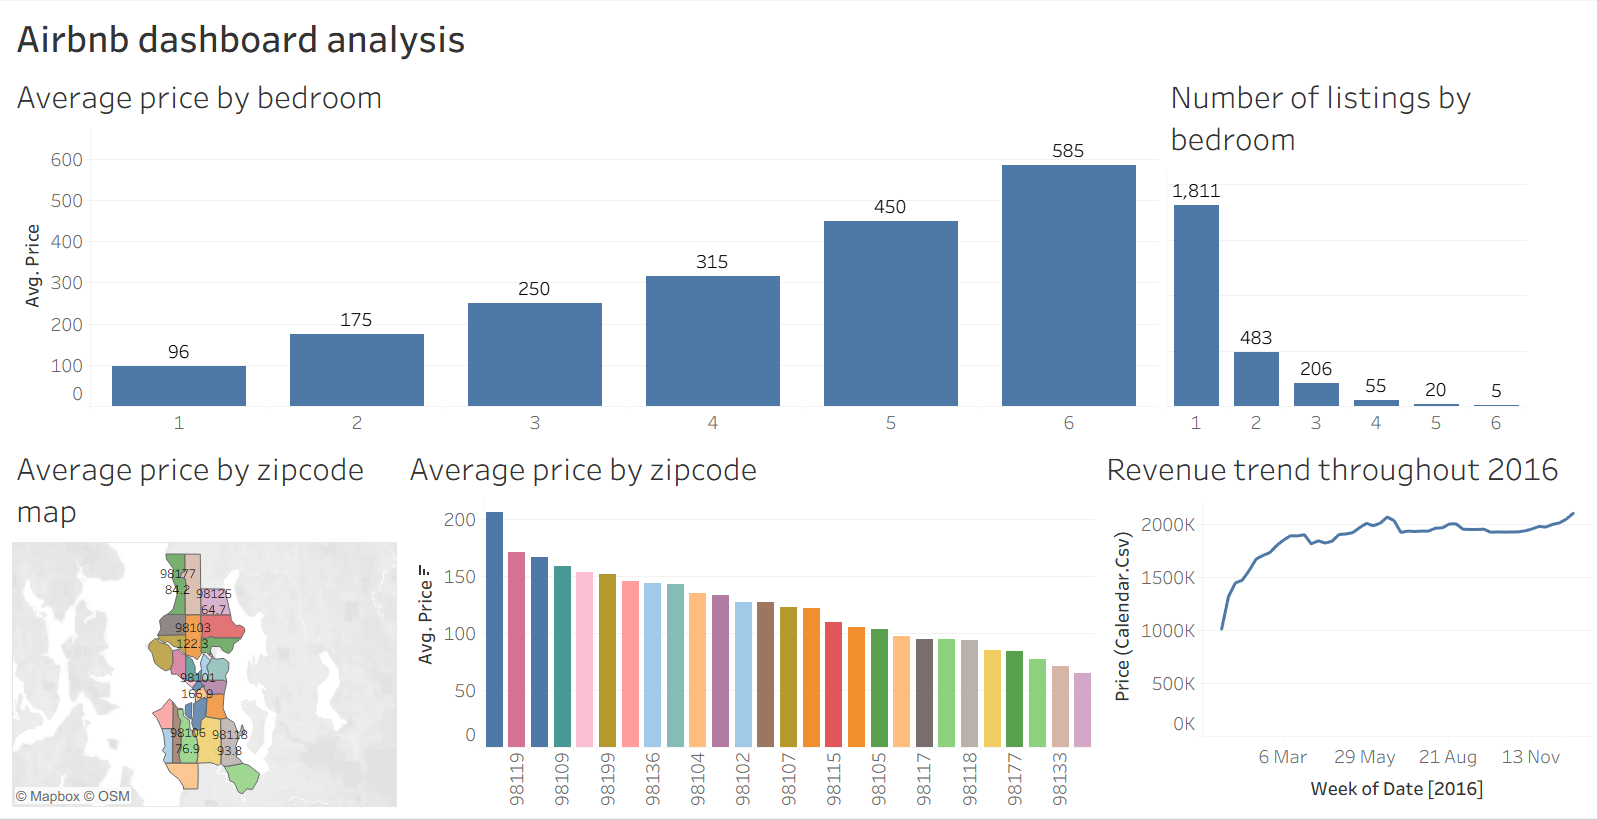

What the dashboard file says about the page in this screenshot:
{"tool":"tableau","page":{"name":"Dashboard 1","canvas":[1000,1000],"units":"permille","ordinal":0},"visuals":[{"type":"title","box":[5,9.8,990,70.9]},{"type":"worksheet","title":"Sheet 4","mark":"Automatic","rows":["price"],"cols":["bedrooms"],"box":[5,80.7,719.5,454.8]},{"type":"worksheet","title":"Sheet 5","mark":"Automatic","rows":["id"],"cols":["bedrooms"],"box":[724.4,80.7,270.6,454.8]},{"type":"worksheet","title":"Sheet 2","mark":"Multipolygon","box":[5,535.5,245,454.8]},{"type":"worksheet","title":"Sheet 1","mark":"Automatic","rows":["price"],"cols":["zipcode"],"box":[250,535.5,434.5,454.8]},{"type":"worksheet","title":"Sheet 3","mark":"Automatic","rows":["price (calendar.csv)"],"cols":["date"],"box":[684.5,535.5,310.5,454.8]}]}

Visuals, with their boxes on the dashboard's canvas, which has no fixed pixel size, in thousandths of its width and height (x1, y1, x2, y2). These are canvas units, not pixel positions in the 1597x820 screenshot, which may show the page scaled, cropped or inside an application window:
title: {"left": 5, "top": 10, "right": 995, "bottom": 81}
"Sheet 4" worksheet: {"left": 5, "top": 81, "right": 724, "bottom": 536}
"Sheet 5" worksheet: {"left": 724, "top": 81, "right": 995, "bottom": 536}
"Sheet 2" worksheet (Multipolygon marks): {"left": 5, "top": 536, "right": 250, "bottom": 990}
"Sheet 1" worksheet: {"left": 250, "top": 536, "right": 684, "bottom": 990}
"Sheet 3" worksheet: {"left": 684, "top": 536, "right": 995, "bottom": 990}
